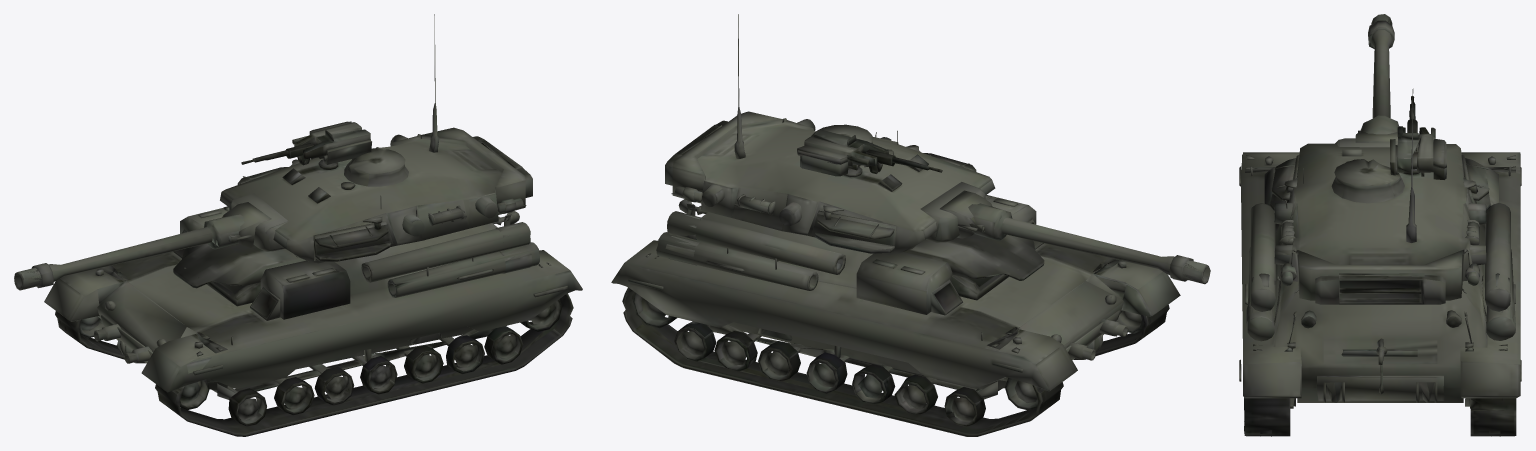
Rendered from r_tank.glb.
The picture shows the model from 3 angles, left to right: view 1: azimuth 30°, elevation 25°; view 2: azimuth 150°, elevation 25°; view 3: azimuth 270°, elevation 25°; orthographic projection. The views are drawn at different scales.
Size of the model in its own units: 0.9536 by 0.5499 by 0.4106.
1 material, 1 textured.
